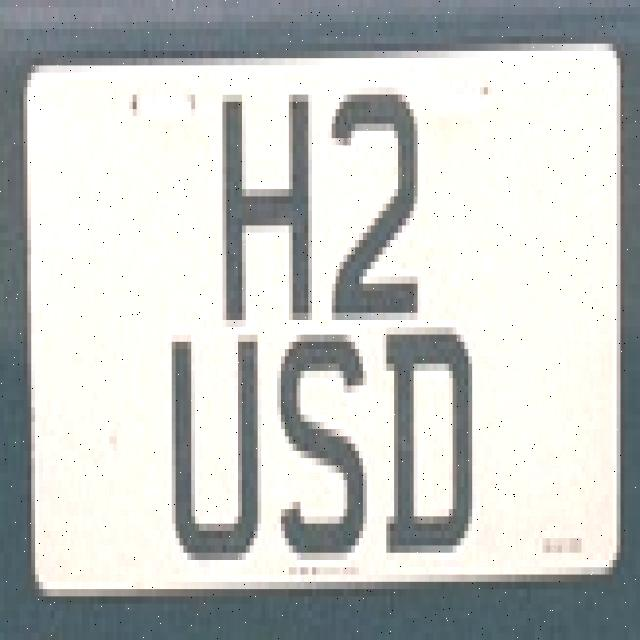licenseplate: (21, 47, 628, 598)
